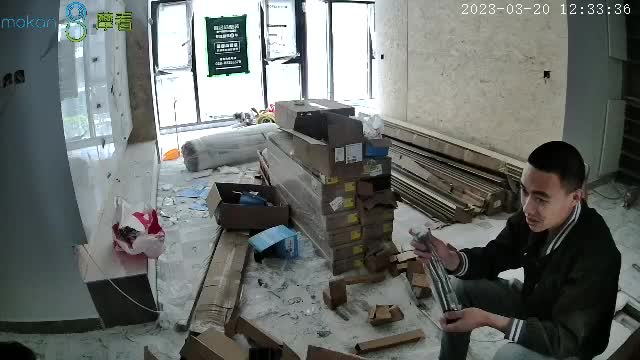people: (408, 141, 623, 360)
window: (154, 1, 374, 126)
